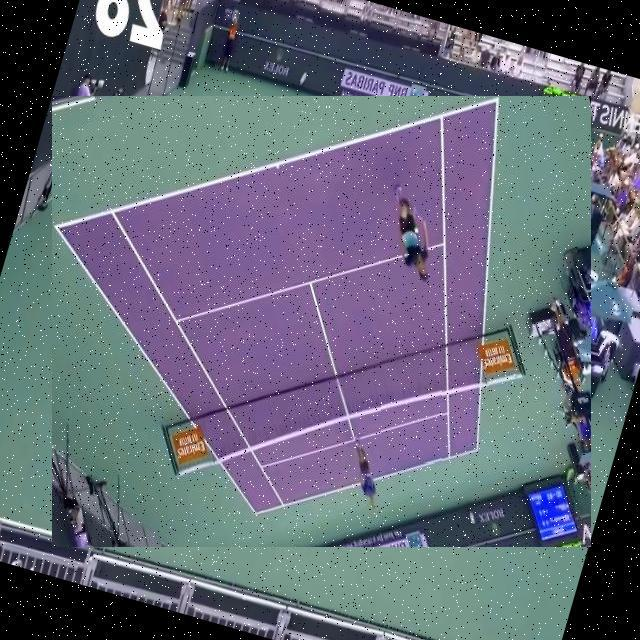court: (52, 96, 591, 547)
net: (159, 164, 527, 318)
player: (381, 354, 442, 464)
